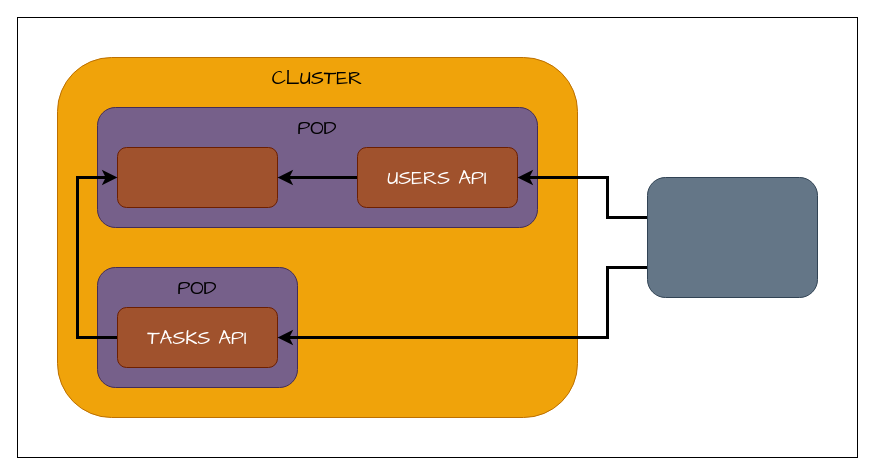
Image size: 875x475. Some labels were removed from this diagram. The box of each missing label's shape, as (x1, y1, x2, y2) in pixels:
AUTH API: (116, 146, 278, 208)
CLIENT (E.G. POSTMAN): (646, 176, 818, 298)
